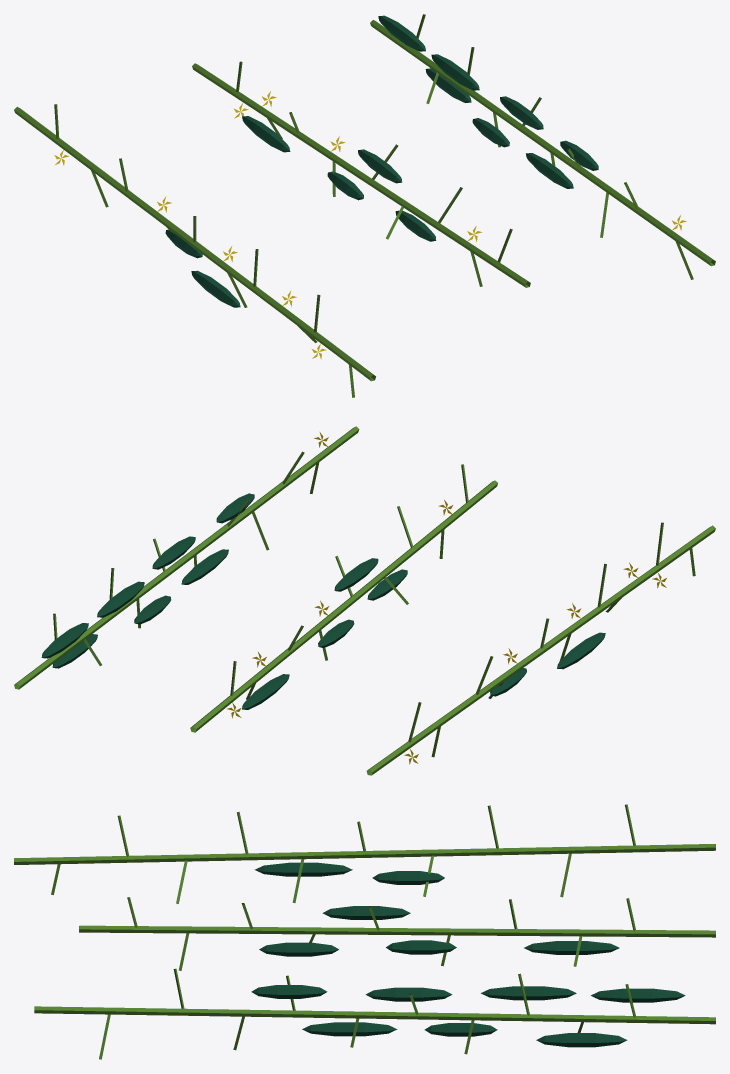
The model's file is r5c4_stems.obj.
The picture shows the model from 3 angles, top to bottom: view 1: azimuth 30°, elevation 25°; view 2: azimuth 150°, elevation 25°; view 3: azimuth 270°, elevation 25°; orthographic projection.
Parts seen in each view (by area): view 1: r5c4_stems; view 2: r5c4_stems; view 3: r5c4_stems.
Boxes of the visible parts, x1,y1,x2,y2 form: r5c4_stems: (14,14,715,397); r5c4_stems: (14,426,715,775); r5c4_stems: (14,804,715,1059).
Bounding box in the file's own units: 1.32 × 0.312 × 2.09.
